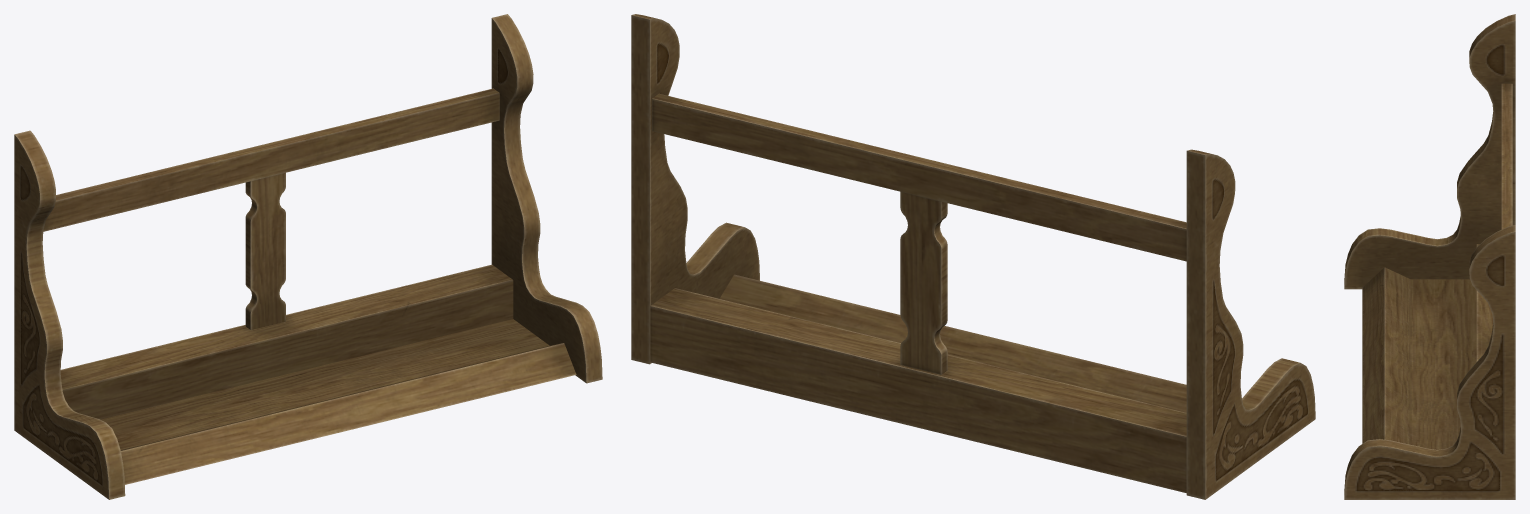
File: sb_obj_indoor045_WeaponRack.fbx
The picture shows the model from 3 angles, left to right: view 1: azimuth 30°, elevation 25°; view 2: azimuth 150°, elevation 25°; view 3: azimuth 270°, elevation 25°; orthographic projection. The views are drawn at different scales.
Parts seen in each view (by area): view 1: sb_obj_indoor045_WeaponRack; view 2: sb_obj_indoor045_WeaponRack; view 3: sb_obj_indoor045_WeaponRack.
Part boxes in pixels (bbox=[...]): sb_obj_indoor045_WeaponRack: bbox=[14, 14, 602, 499]; sb_obj_indoor045_WeaponRack: bbox=[631, 14, 1315, 499]; sb_obj_indoor045_WeaponRack: bbox=[1344, 14, 1515, 499].
Bounding box in the file's own units: 0.9413 × 0.54 × 0.3133.
Materials: 1 (1 with a texture image).
